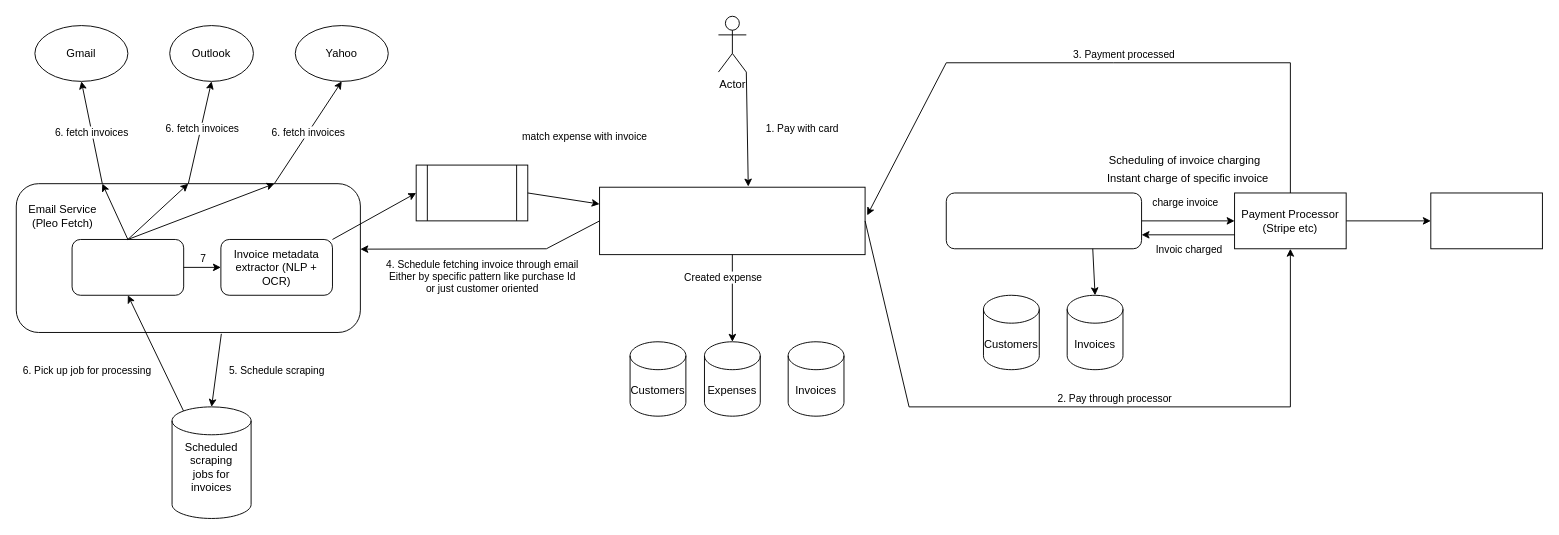
This 1559x535 diagram has some shape labels left out. The centre of each missing label's shape, as x and y in pixels:
"Billing Service" belongs at (1043,220).
"Card network (Visa/Mastercard)" belongs at (1486,220).
"Email Bridge Provider" belongs at (127,267).
"Invoice fetched" belongs at (471,192).
"Transactions service (Expenses)" belongs at (732,220).
